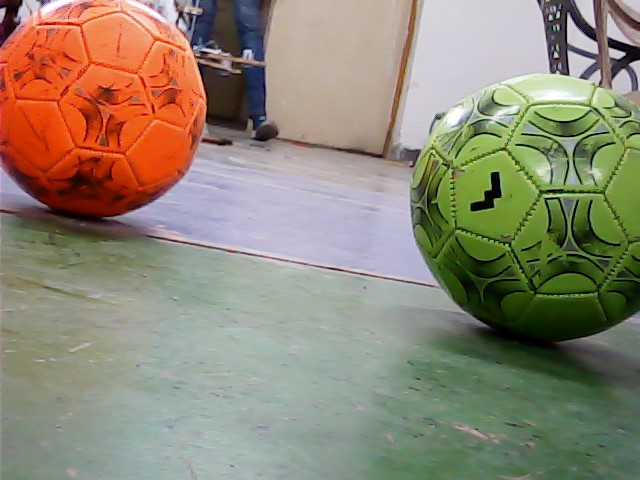Green_ball: (410, 73, 640, 345)
Orange_ball: (1, 1, 214, 219)
